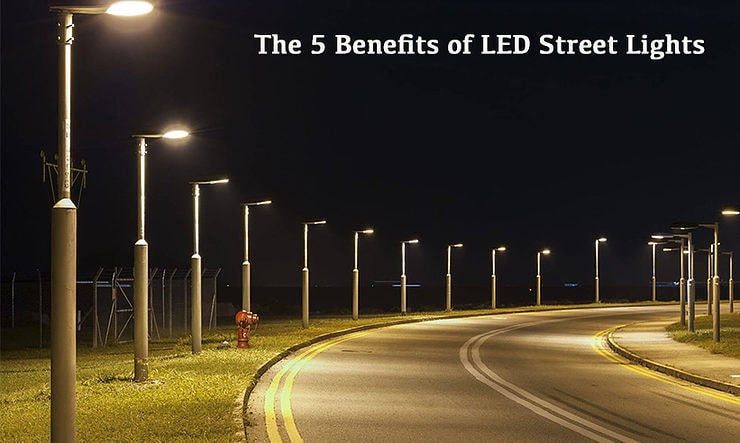Lamp: (38, 2, 159, 440), (118, 122, 201, 392), (179, 166, 236, 352), (235, 194, 274, 351), (296, 210, 340, 329), (343, 215, 385, 325), (439, 236, 470, 327), (396, 226, 426, 319), (581, 231, 616, 304), (526, 241, 558, 307), (486, 245, 512, 309)
